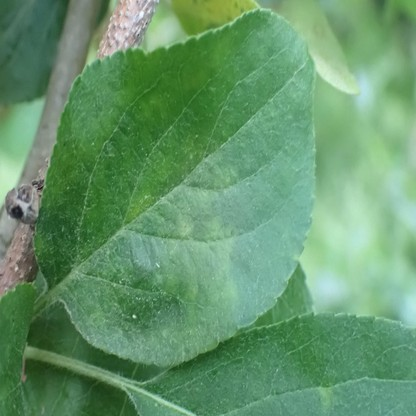scab: (166, 218, 238, 355), (197, 163, 238, 203), (317, 386, 334, 416), (175, 215, 193, 235)
